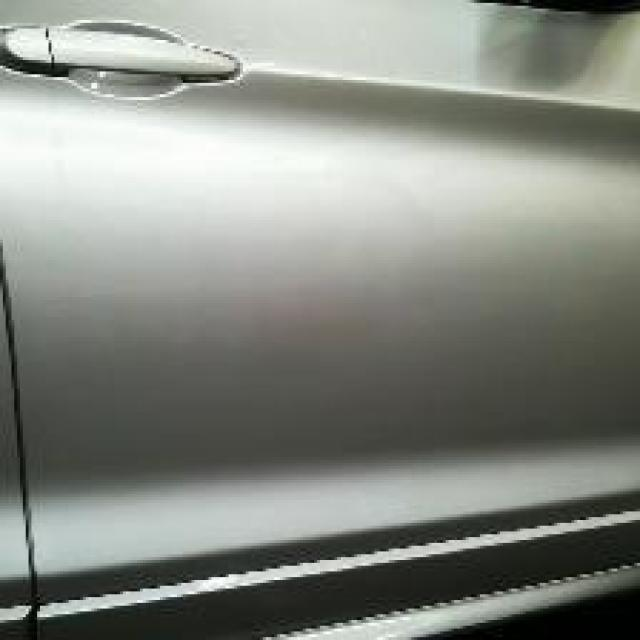damaged: (466, 6, 638, 120)
